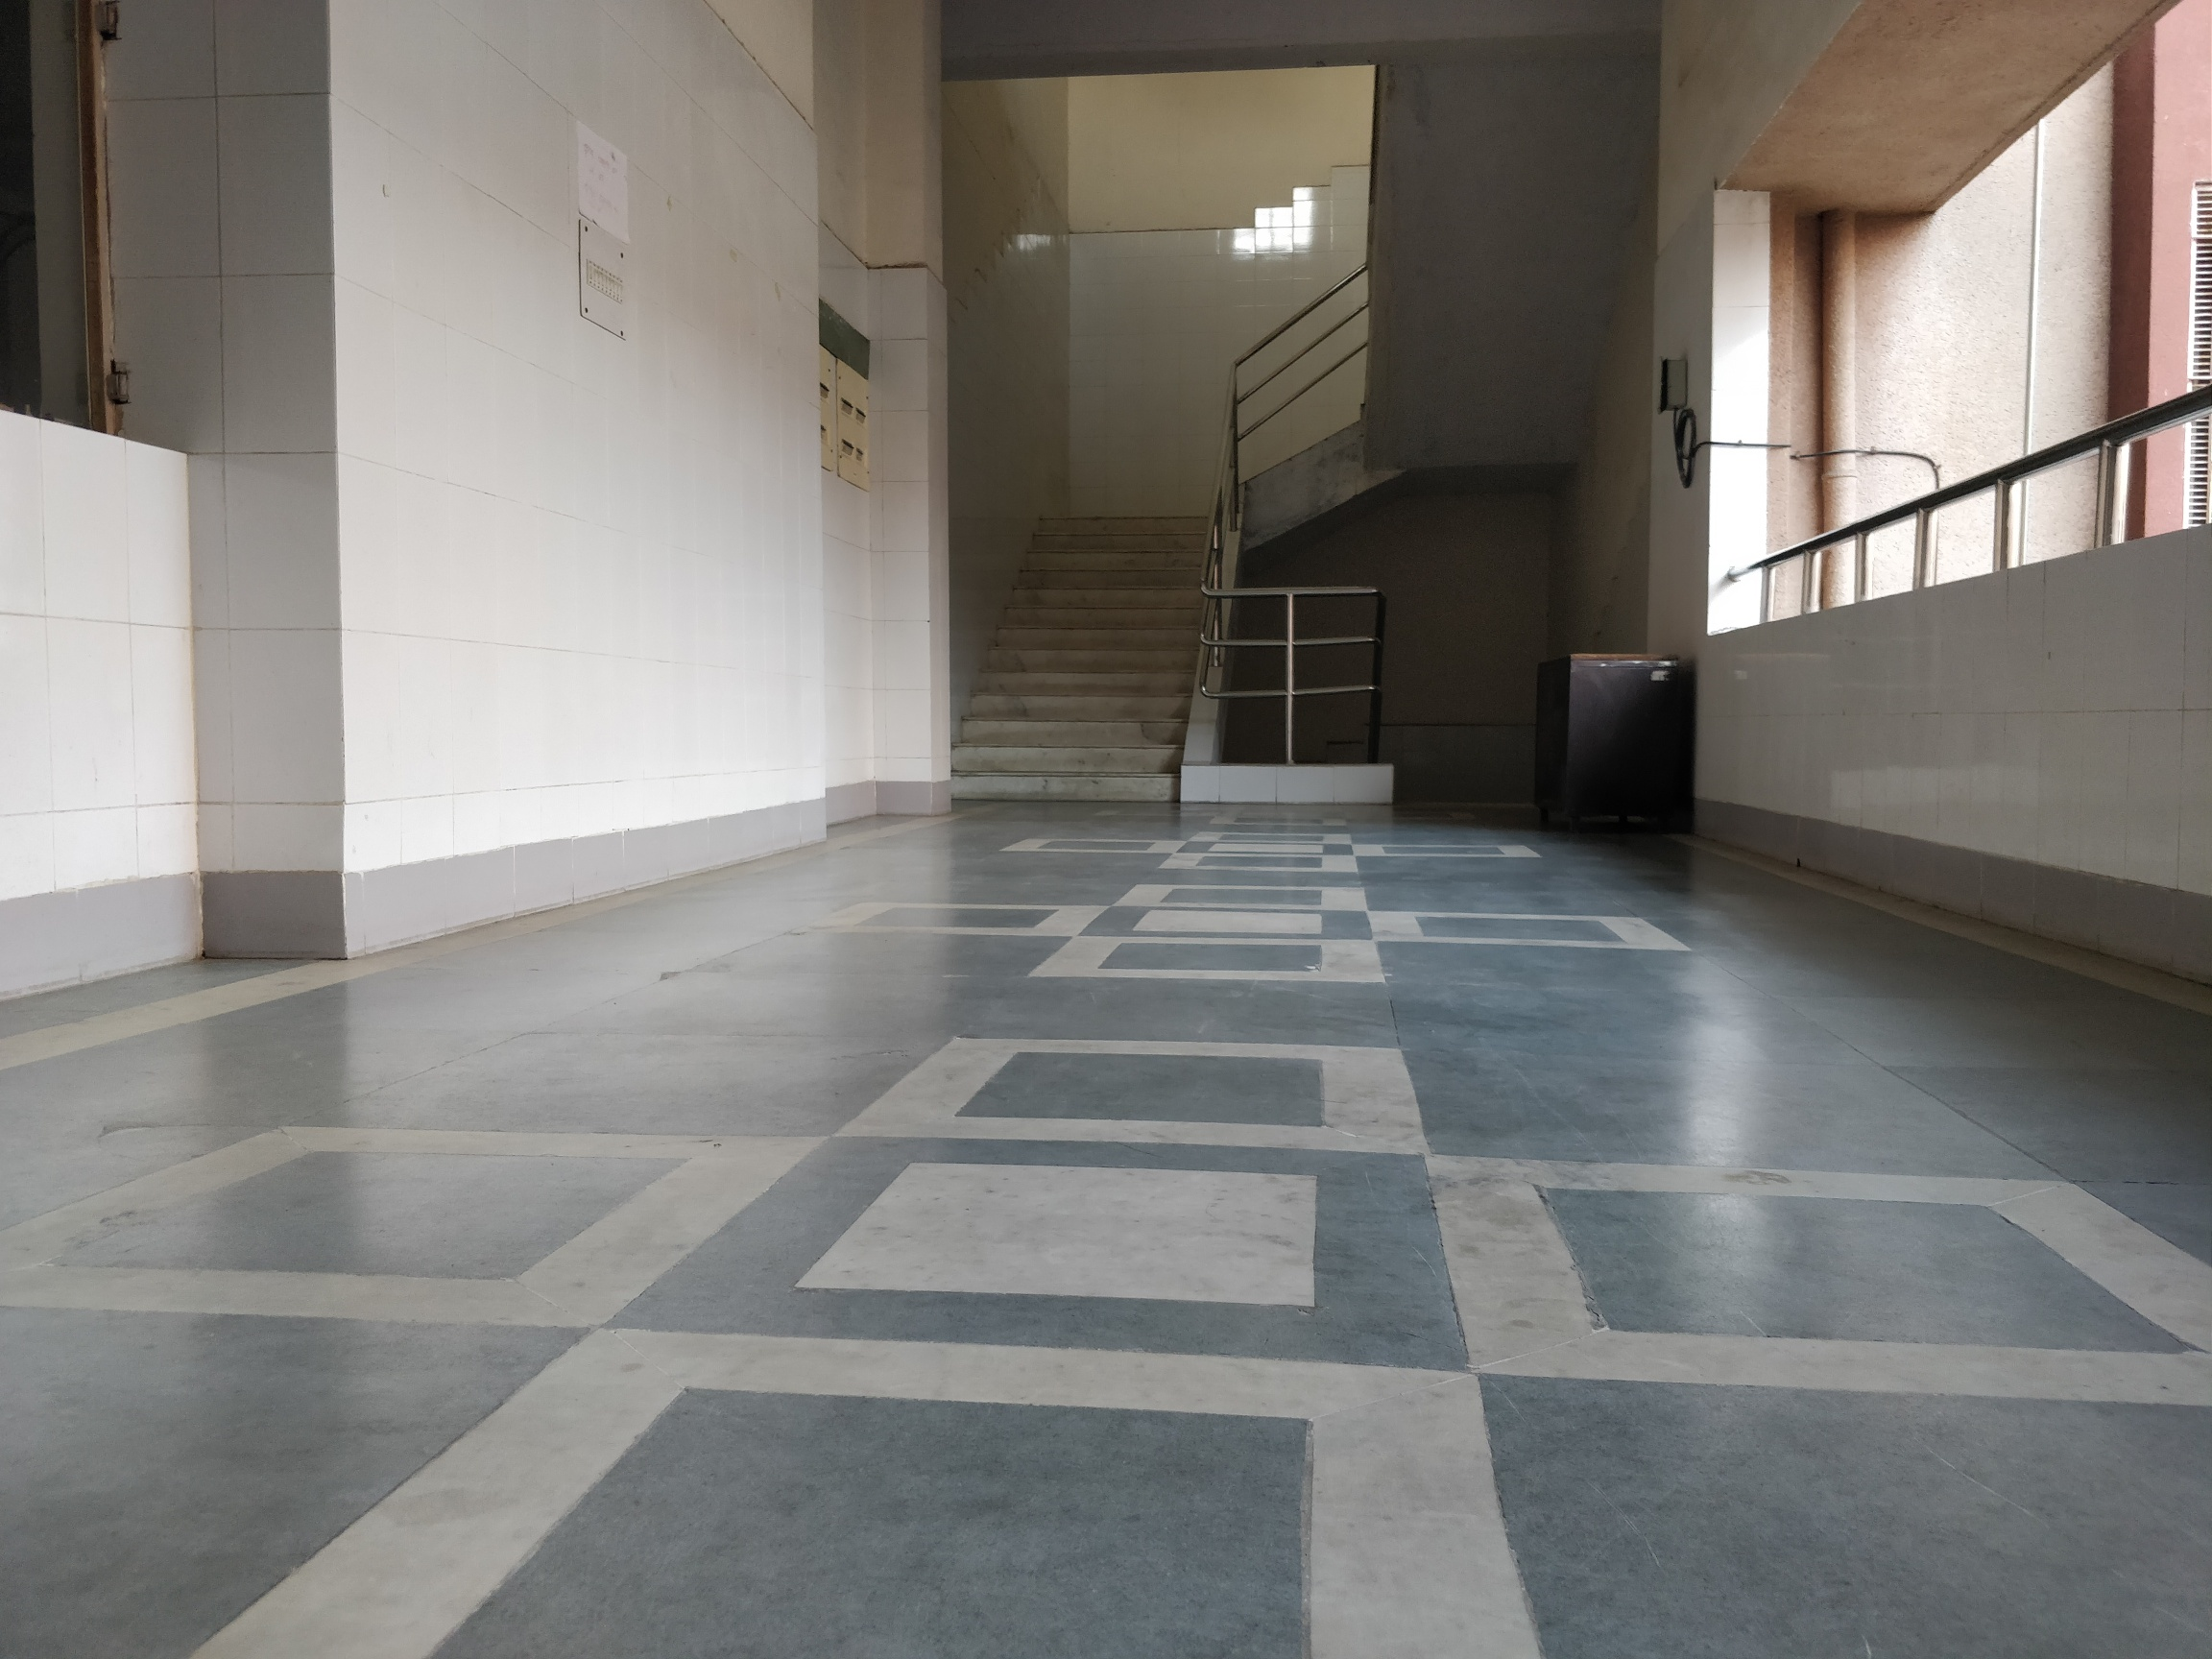stairs_up: (941, 479, 1224, 816)
